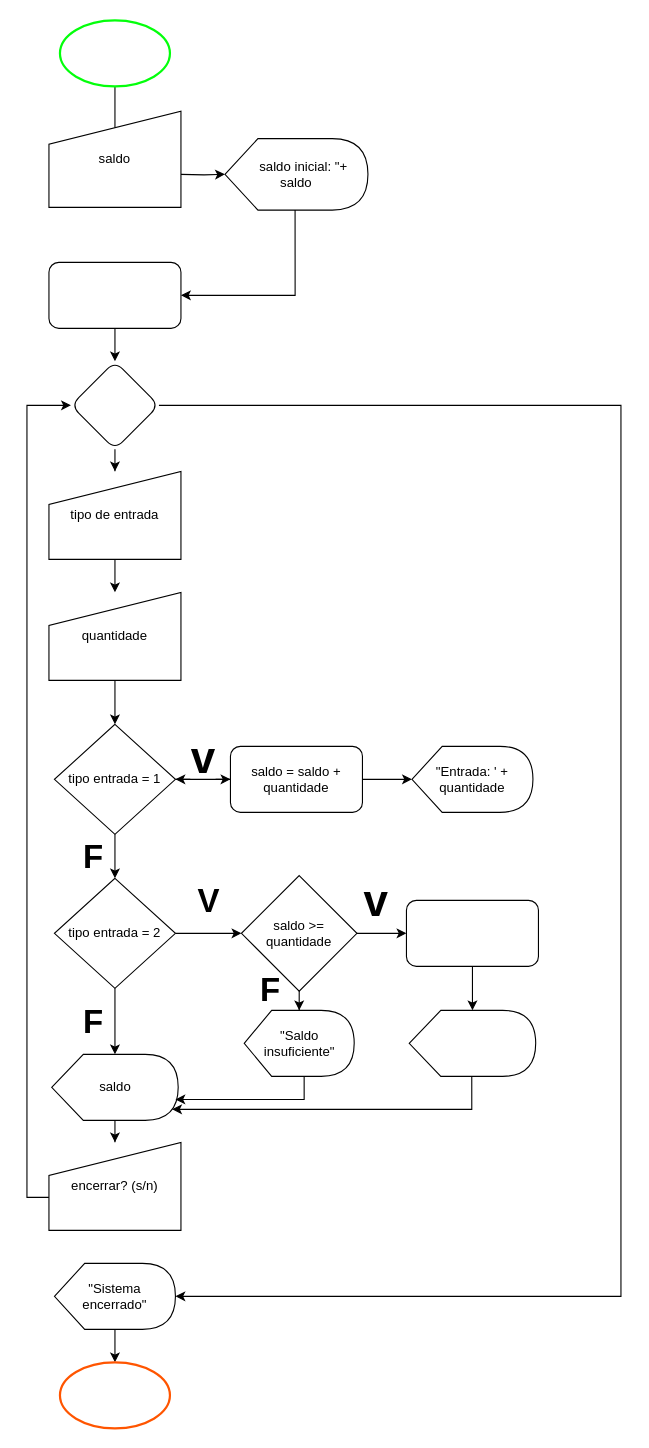
This 649x1448 diagram has some shape labels left out. The shapes that lost their labels are listed below. From the top down, each one's centre as x and y in pixels, then its label:
(x=114, y=53): Início
(x=114, y=294): encerrar = 'n'
(x=114, y=404): encerar = 'n'
(x=471, y=932): saldo = saldo - quantidade
(x=472, y=1042): "Saída: ' + quantidade
(x=114, y=1395): Fim
